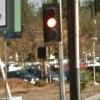Traffic light: (35, 5, 68, 60)
